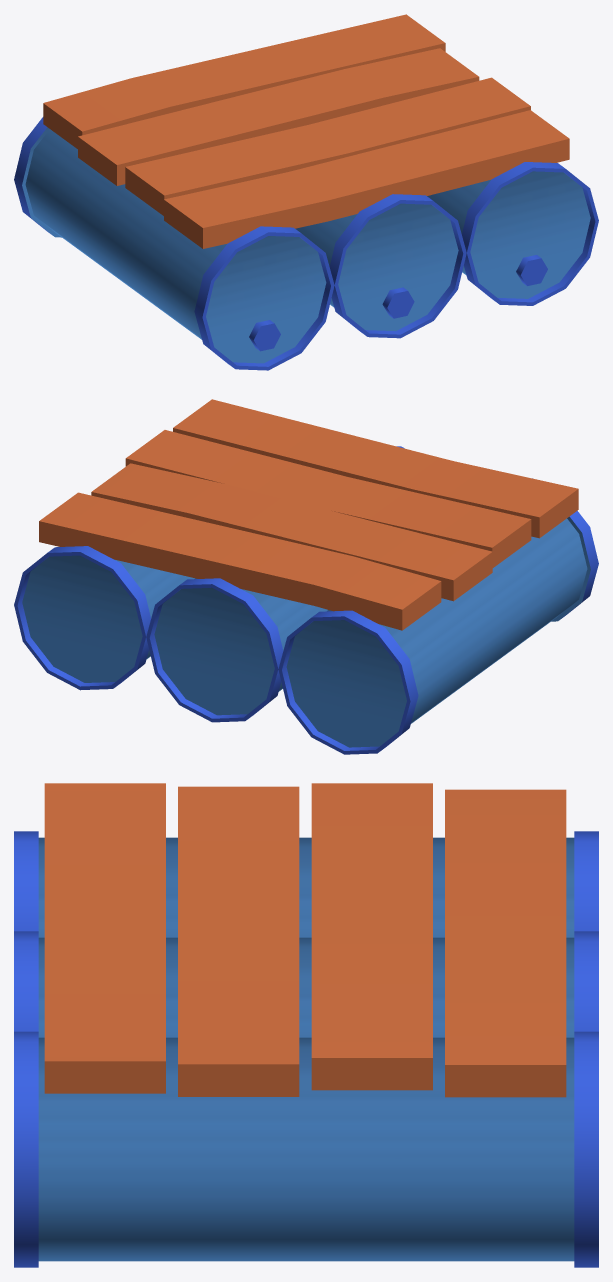
Rendered from Barrel_Platform.fbx.
3 views of the same model, one above another, from view 1: azimuth 30°, elevation 25°; view 2: azimuth 150°, elevation 25°; view 3: azimuth 270°, elevation 25° (orthographic). The views are drawn at different scales.
Parts seen in each view (by area): view 1: BarrelPlatform; view 2: BarrelPlatform; view 3: BarrelPlatform.
Part boxes in pixels (<box>): BarrelPlatform: <box>14,14,598,370</box>; BarrelPlatform: <box>14,399,598,754</box>; BarrelPlatform: <box>14,783,598,1267</box>.
Size of the model in its own units: 1.25 by 0.4581 by 1.03.
